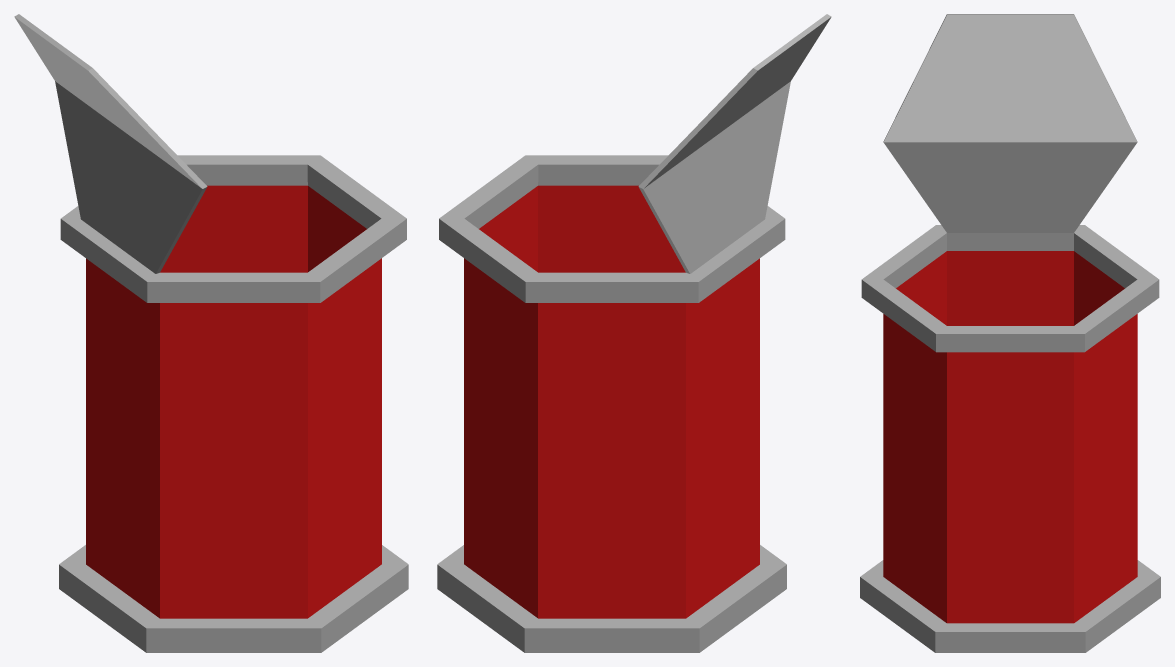
The model's file is can2.glb.
3 views of the same model, side by side, from view 1: azimuth 30°, elevation 25°; view 2: azimuth 150°, elevation 25°; view 3: azimuth 270°, elevation 25° (orthographic). The views are drawn at different scales.
Visible parts, largest first — view 1: can2; view 2: can2; view 3: can2.
Boxes of the visible parts, box(x1,y1,x2,y2) form: can2: box(14, 14, 408, 652); can2: box(437, 14, 831, 652); can2: box(860, 14, 1160, 652).
Size of what is drawn, in the model's own units: 0.2007 by 0.3612 by 0.1937.
1 material, 1 textured.
